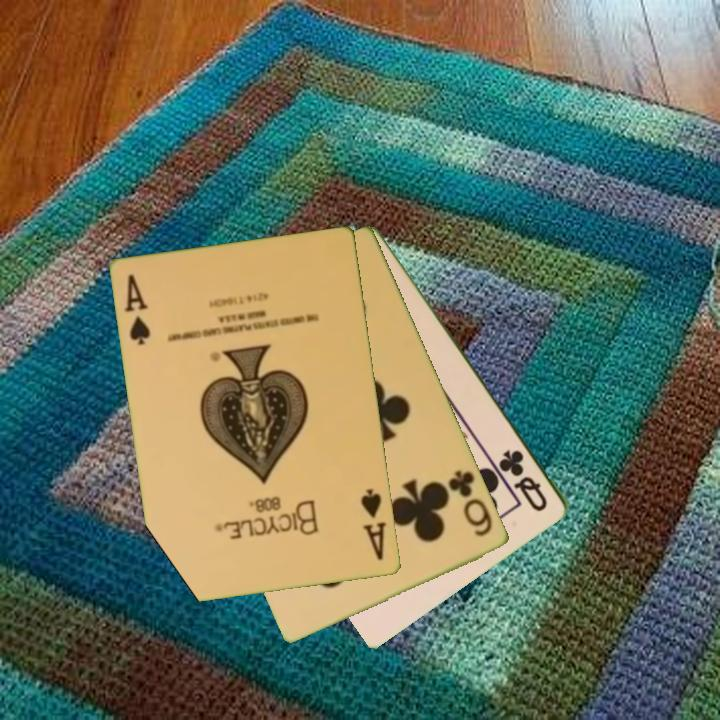6c: (445, 467, 496, 540)
As: (121, 271, 154, 349), (358, 485, 390, 564)
Qc: (495, 446, 551, 515)
